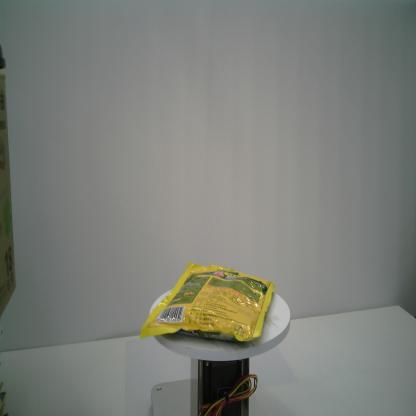Seasoner: (136, 260, 277, 344)
